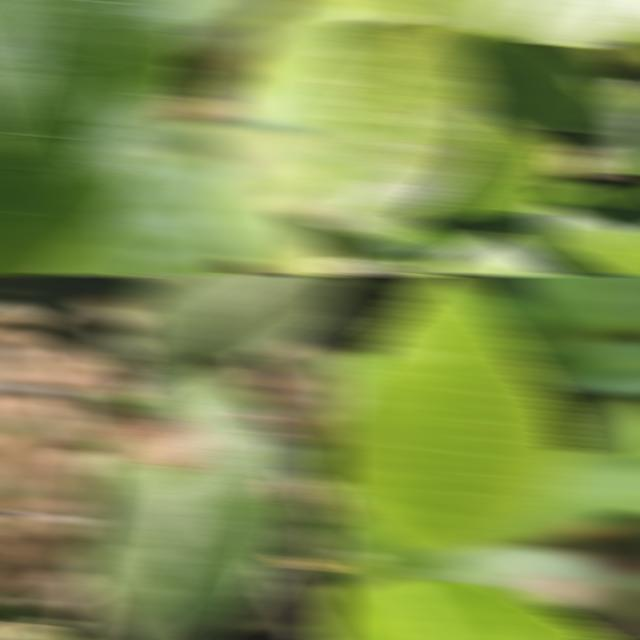Leaf: (322, 274, 575, 553), (72, 360, 306, 640), (0, 0, 203, 276), (322, 19, 485, 260), (116, 274, 342, 389), (401, 110, 569, 240), (214, 0, 342, 167), (53, 160, 233, 276), (441, 29, 618, 134), (322, 577, 613, 640), (171, 156, 311, 276), (486, 450, 640, 542), (387, 0, 640, 46), (502, 274, 640, 345), (533, 203, 640, 276), (423, 231, 564, 276), (535, 341, 640, 397), (580, 80, 640, 177), (34, 306, 121, 362), (322, 0, 416, 29), (0, 620, 83, 640)
